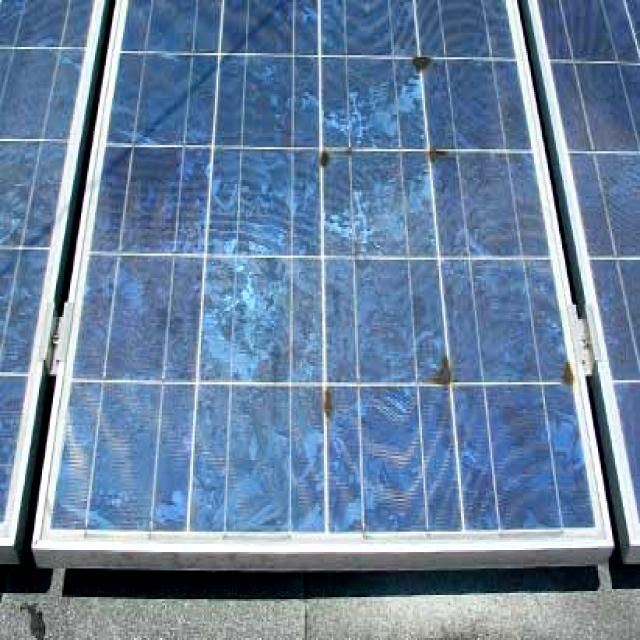shadow: (402, 331, 497, 421), (414, 132, 490, 210), (300, 362, 370, 436), (290, 119, 368, 183), (402, 34, 478, 88), (552, 324, 600, 404)
